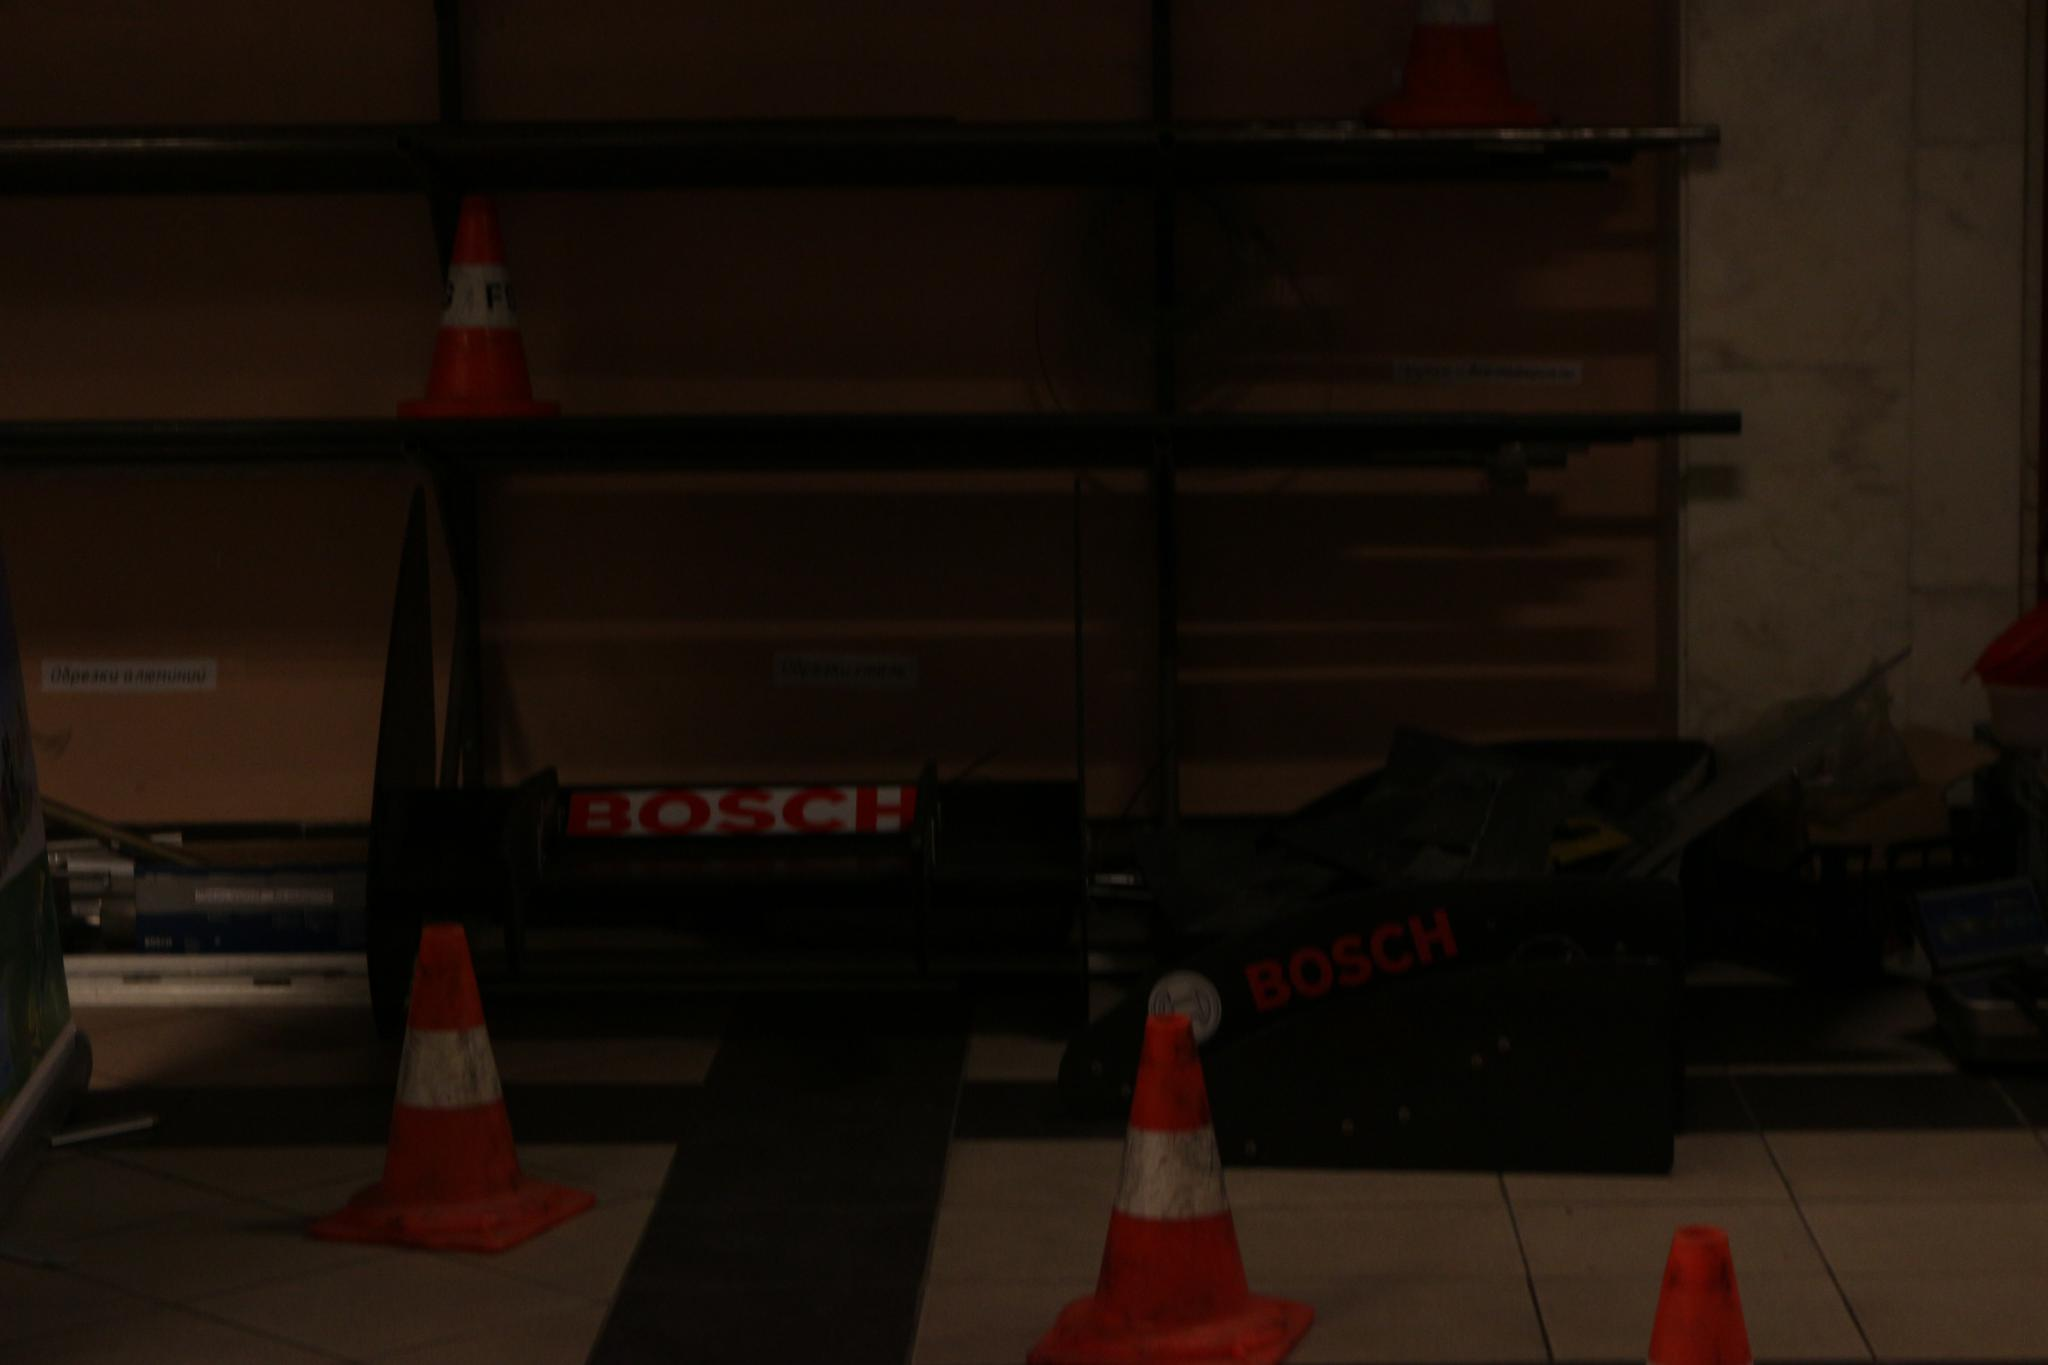Orange_Cone: (1023, 993, 1314, 1363), (298, 906, 577, 1254), (393, 198, 553, 430), (1632, 1211, 1785, 1363)
